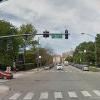Crosswalk: (2, 79, 100, 99)
